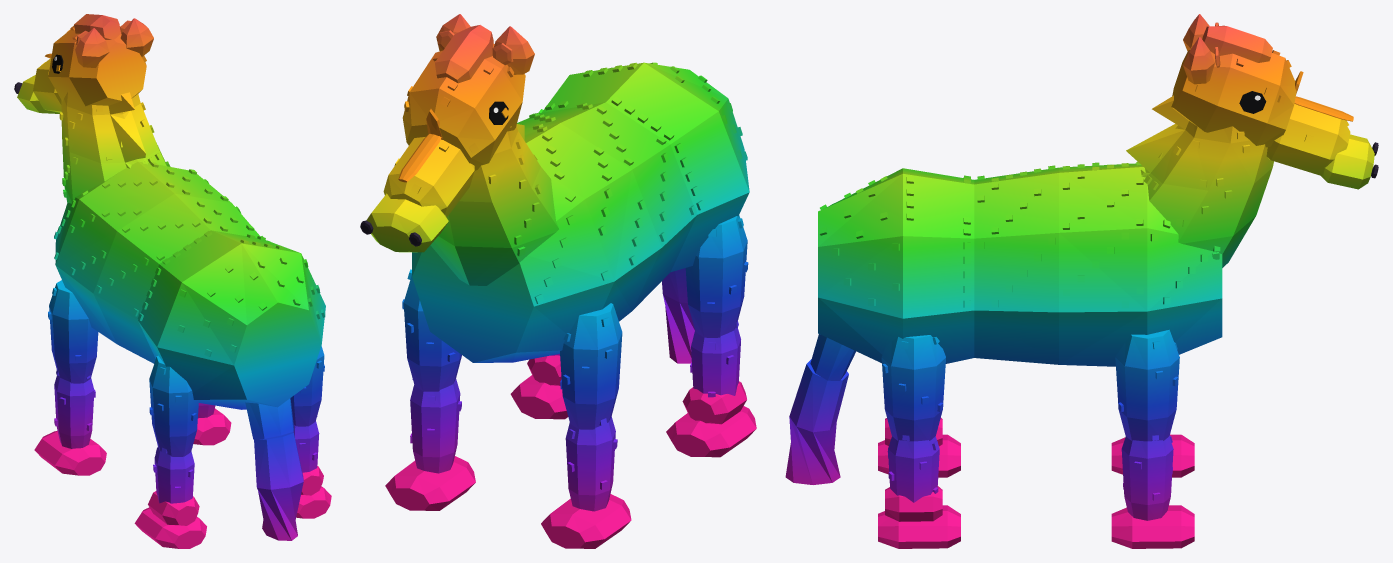
Rendered from Horse.fbx.
The picture shows the model from 3 angles, left to right: view 1: azimuth 30°, elevation 25°; view 2: azimuth 150°, elevation 25°; view 3: azimuth 270°, elevation 25°; orthographic projection. The views are drawn at different scales.
Visible parts, largest first — view 1: Import3D_Core, Import3D_Neck, Import3D_Head, Import3D_KneeBL, Import3D_KneeFL, Import3D_TailTip, Import3D_LegBL, Import3D_LegFL, Import3D_KneeBR, Import3D_Tail, Import3D_LegBR, Import3D_KneeFR (+2 smaller); view 2: Import3D_Core, Import3D_Head, Import3D_Neck, Import3D_KneeBL, Import3D_KneeFL, Import3D_KneeFR, Import3D_LegFL, Import3D_LegBL, Import3D_LegFR, Import3D_KneeBR, Import3D_TailTip, Import3D_EarL (+1 smaller); view 3: Import3D_Core, Import3D_Head, Import3D_Neck, Import3D_KneeBR, Import3D_KneeFR, Import3D_LegFR, Import3D_LegBR, Import3D_TailTip, Import3D_KneeBL, Import3D_Tail, Import3D_KneeFL, Import3D_EarR.
Part boxes in pixels (x1=…): Import3D_Core: x1=54, y1=161, x2=325, y2=409; Import3D_Neck: x1=59, y1=91, x2=170, y2=203; Import3D_Head: x1=14, y1=14, x2=146, y2=113; Import3D_KneeBL: x1=134, y1=447, x2=206, y2=548; Import3D_KneeFL: x1=34, y1=370, x2=106, y2=475; Import3D_TailTip: x1=254, y1=432, x2=303, y2=540; Import3D_LegBL: x1=149, y1=355, x2=198, y2=456; Import3D_LegFL: x1=48, y1=280, x2=98, y2=383; Import3D_KneeBR: x1=293, y1=416, x2=331, y2=518; Import3D_Tail: x1=245, y1=398, x2=294, y2=439; Import3D_LegBR: x1=290, y1=345, x2=324, y2=426; Import3D_KneeFR: x1=193, y1=403, x2=231, y2=445; Import3D_Core: x1=412, y1=62, x2=749, y2=362; Import3D_Head: x1=360, y1=25, x2=525, y2=252; Import3D_Neck: x1=430, y1=124, x2=558, y2=285; Import3D_KneeBL: x1=666, y1=320, x2=756, y2=457; Import3D_KneeFL: x1=541, y1=416, x2=631, y2=548; Import3D_KneeFR: x1=385, y1=379, x2=475, y2=510; Import3D_LegFL: x1=560, y1=303, x2=622, y2=429; Import3D_LegBL: x1=685, y1=215, x2=748, y2=337; Import3D_LegFR: x1=402, y1=269, x2=461, y2=391; Import3D_KneeBR: x1=510, y1=354, x2=568, y2=419; Import3D_TailTip: x1=662, y1=268, x2=694, y2=363; Import3D_EarL: x1=492, y1=26, x2=534, y2=74; Import3D_Core: x1=818, y1=161, x2=1222, y2=366; Import3D_Head: x1=1171, y1=25, x2=1378, y2=189; Import3D_Neck: x1=1126, y1=95, x2=1273, y2=267; Import3D_KneeBR: x1=878, y1=435, x2=960, y2=548; Import3D_KneeFR: x1=1111, y1=435, x2=1194, y2=548; Import3D_LegFR: x1=1115, y1=329, x2=1179, y2=441; Import3D_LegBR: x1=881, y1=335, x2=945, y2=441; Import3D_TailTip: x1=785, y1=359, x2=848, y2=484; Import3D_KneeBL: x1=878, y1=417, x2=960, y2=477; Import3D_Tail: x1=810, y1=334, x2=855, y2=380; Import3D_KneeFL: x1=1111, y1=434, x2=1194, y2=477; Import3D_EarR: x1=1183, y1=37, x2=1220, y2=84.
Bounding box in the file's own units: 129 × 289 × 322.
Materials: 1 (1 with a texture image).
